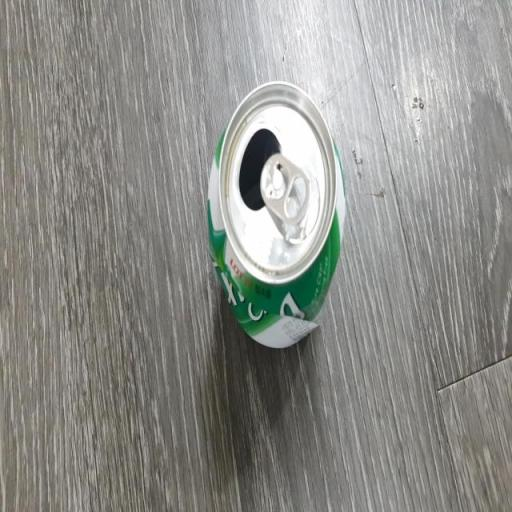metal: (188, 68, 362, 370)
